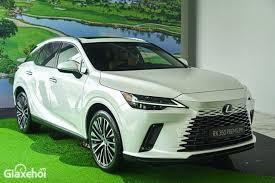lexus: (220, 100, 233, 114)
